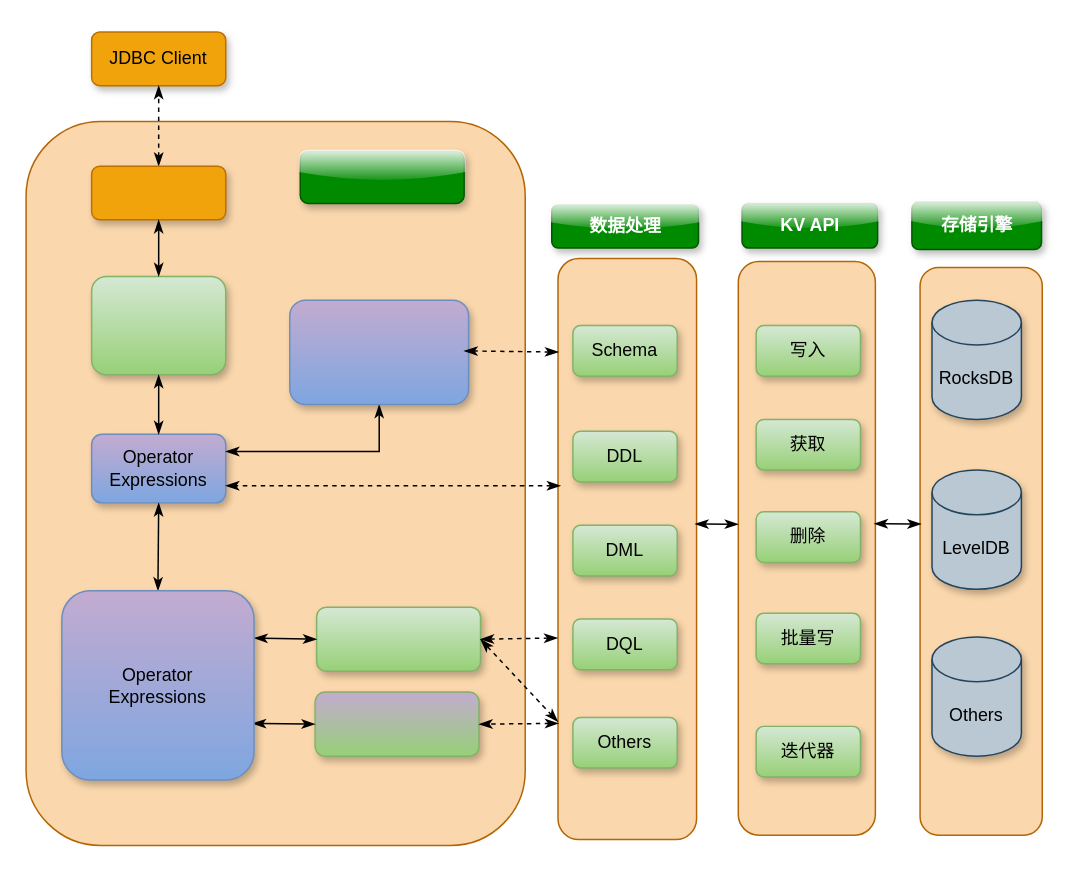
The diagram is 1077 pixels wide and 872 high, and some of its shapes have lost their labels. Each missing label, with the centre of its shape:
"Apache Calcite" belongs at [383,179].
"Expressions Builder" belongs at [380,354].
"JDBC Server" belongs at [159,194].
"SQL Parser and Vaildator" belongs at [159,327].
"优化规则" belongs at [398,726].
"元信息管理" belongs at [399,641].
